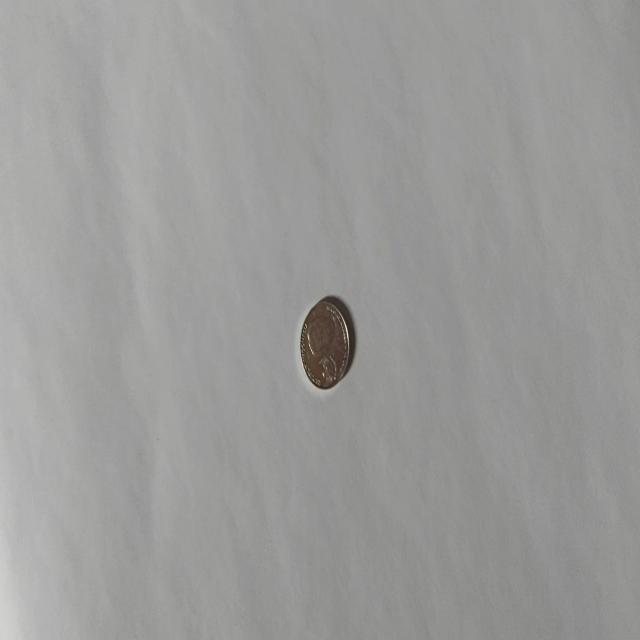seratus rupiah: (299, 296, 350, 390)
